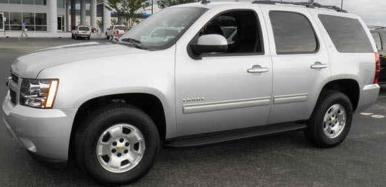front_view: (1, 57, 71, 161)
headlight: (19, 74, 62, 112)
side_glass: (189, 8, 373, 63)
